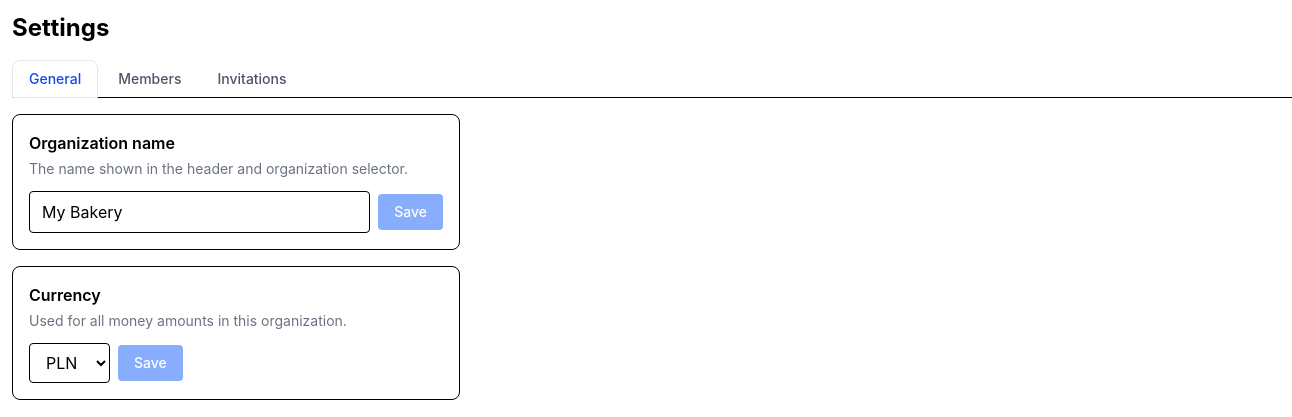
it: OrgSettingsPage › hides invitations management from non-owner members
The width and height of the screenshot is (1292, 417).
Click the tab "Invitations": (252, 78) [202,60,303,97]
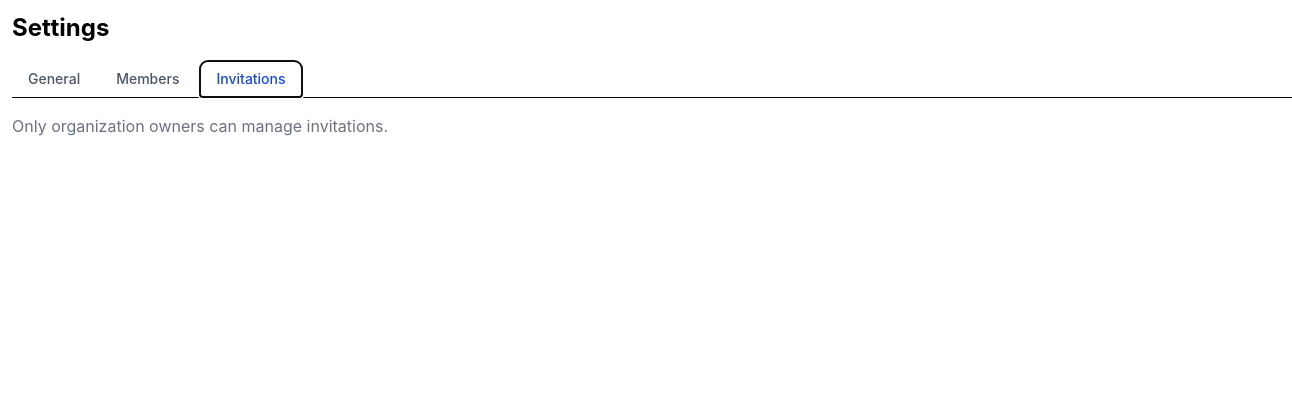
Check: the text "Only organization owners can manage invitations." is shown, box [12,116,388,136]
